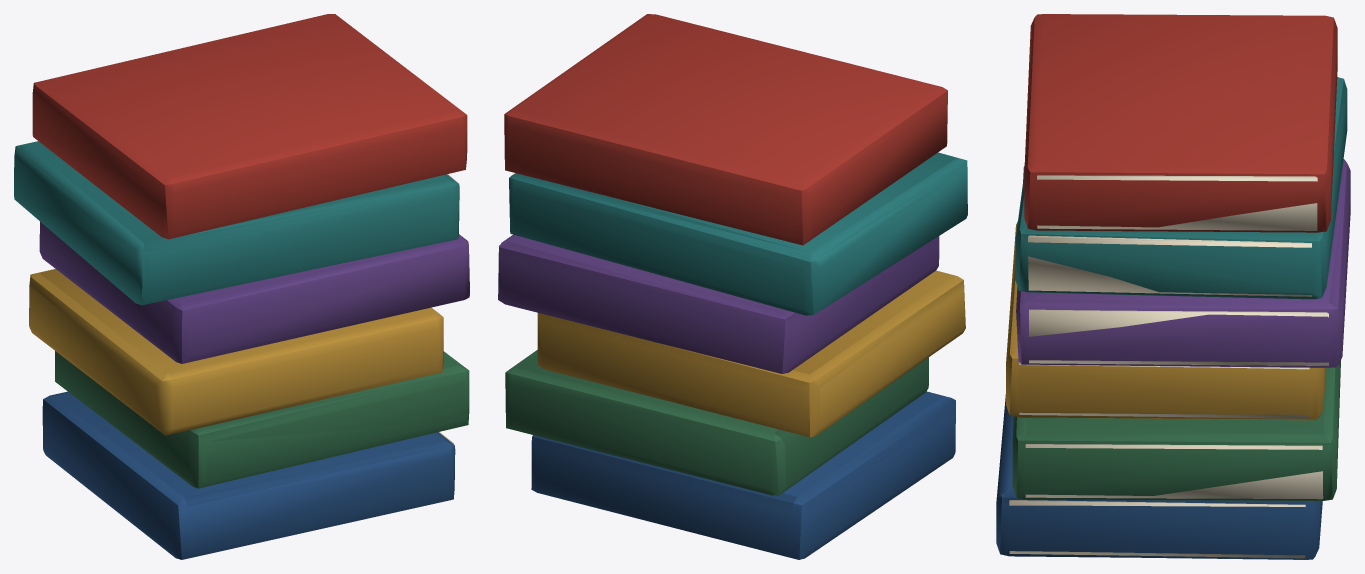
The model's file is den_book_stack_tall_lod2.glb.
3 renders of one model, left to right at view 1: azimuth 30°, elevation 25°; view 2: azimuth 150°, elevation 25°; view 3: azimuth 270°, elevation 25°, orthographic. The views are drawn at different scales.
Parts seen in each view (by area): view 1: den_book_stack_tall.001; view 2: den_book_stack_tall.001; view 3: den_book_stack_tall.001.
Part boxes in pixels (left/top/right/bottom): den_book_stack_tall.001: left=14, top=14, right=469, bottom=559; den_book_stack_tall.001: left=498, top=14, right=967, bottom=559; den_book_stack_tall.001: left=996, top=14, right=1350, bottom=559.
Bounding box in the file's own units: 8.28 × 8.99 × 7.12.
